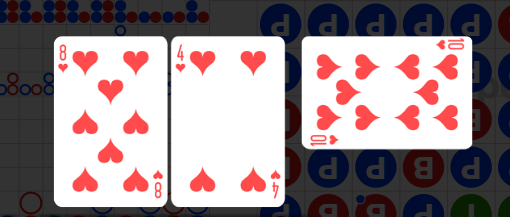10H: (434, 39, 466, 53)
4H: (268, 168, 282, 200)
8H: (56, 43, 70, 75)
